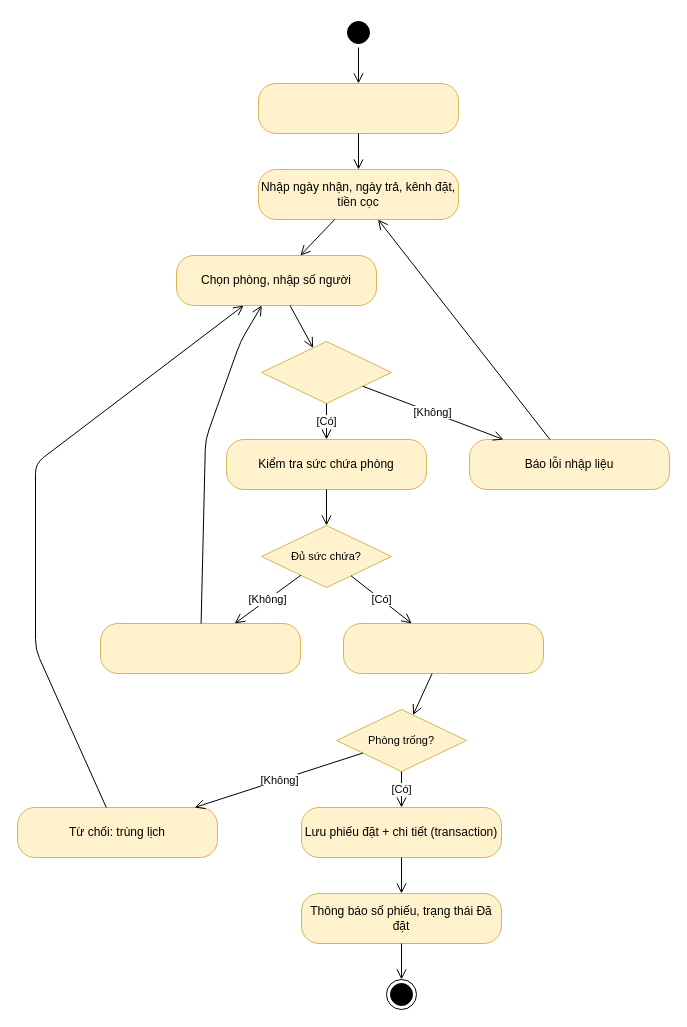
Some shapes in this 687 by 1027 pixel diagram are drawn without their labels. Here are the shapes that lost their labels. From the top down, the centre of each, then its label:
the point at 358,108: Lễ tân chọn khách (thêm mới nếu chưa có)
the point at 326,372: Dữ liệu hợp lệ?
the point at 200,648: Từ chối: vượt sức chứa
the point at 443,648: Kiểm tra lịch đặt chồng lấn
